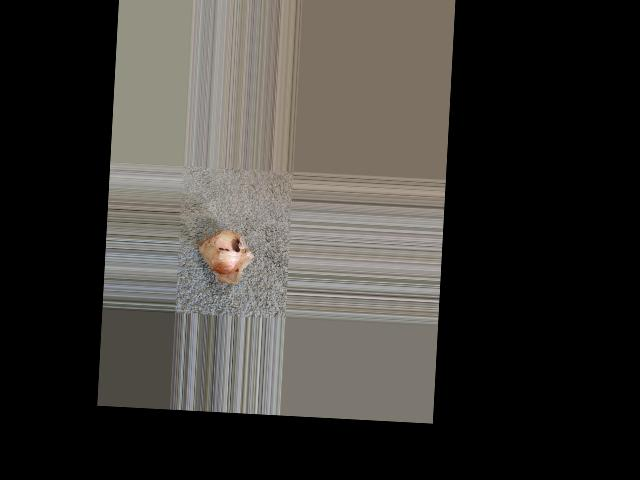onion: (198, 227, 247, 275)
